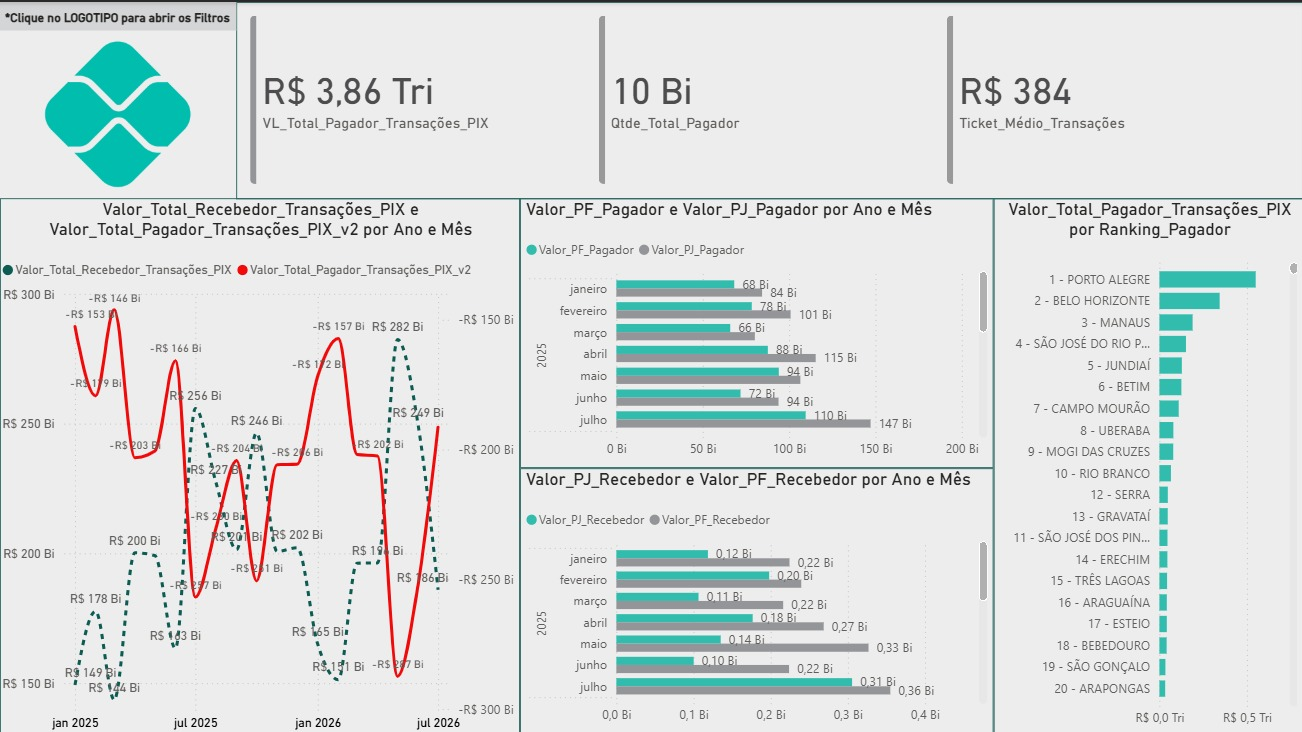

The page's visual inventory and layout, read from the dashboard file:
{"tool":"powerbi","page":{"name":"PIX | Visão_Geral","canvas":[1280,720],"ordinal":1},"visuals":[{"type":"cardVisual","fields":{"Data":["Medidas.Valor_Total_Pagador_Transações_PIX","Medidas.Qtde_Total_Pagador","Medidas.Ticket_Médio_Transações"]},"box":[231.9,0,1047.9,193.9],"z":0},{"type":"lineChart","fields":{"Category":["Calendário.Data.Variation.Hierarquia de datas.Ano","Calendário.Data.Variation.Hierarquia de datas.Mês"],"Y":["Medidas.Valor_Total_Recebedor_Transações_PIX"],"Y2":["Medidas.Valor_Total_Pagador_Transações_PIX_v2"]},"box":[0,192.6,510.4,526.4],"z":1000},{"type":"clusteredBarChart","fields":{"Category":["Dim_Ranking_Transações.Ranking_Pagador"],"Y":["Medidas.Valor_Total_Pagador_Transações_PIX"]},"box":[975.2,193.2,305.1,528.9],"z":2000},{"type":"clusteredBarChart","fields":{"Category":["Calendário.Data.Variation.Hierarquia de datas.Ano","Calendário.Data.Variation.Hierarquia de datas.Mês"],"Y":["Medidas.Valor_PF_Pagador","Medidas.Valor_PJ_Pagador"]},"box":[510.4,192.6,465,265],"z":3000},{"type":"clusteredBarChart","fields":{"Category":["Calendário.Data.Variation.Hierarquia de datas.Ano","Calendário.Data.Variation.Hierarquia de datas.Mês"],"Y":["Medidas.Valor_PJ_Recebedor","Medidas.Valor_PF_Recebedor"]},"box":[510.4,457.7,465,261.4],"z":4000},{"type":"image","box":[0,28.2,231.9,164.4],"z":5000},{"type":"actionButton","box":[0,1.2,231.9,192.6],"z":7000},{"type":"actionButton","box":[1150.9,0,128.8,193.9],"z":8000},{"type":"textbox","box":[0,0,231.9,28.2],"z":9000}]}

Visuals, with their boxes in screenshot pixels (x1, y1, x2, y2), scaled from the page's 1280x720 canvas onto the 1302x732 screenshot:
cardVisual - Medidas.Valor_Total_Pagador_Transações_PIX x Medidas.Qtde_Total_Pagador: bbox=(236, 0, 1301, 197)
lineChart - Calendário.Data.Variation.Hierarquia de datas.Ano x Calendário.Data.Variation.Hierarquia de datas.Mês: bbox=(0, 196, 519, 731)
clusteredBarChart - Dim_Ranking_Transações.Ranking_Pagador x Medidas.Valor_Total_Pagador_Transações_PIX: bbox=(992, 196, 1301, 731)
clusteredBarChart - Calendário.Data.Variation.Hierarquia de datas.Ano x Calendário.Data.Variation.Hierarquia de datas.Mês: bbox=(519, 196, 992, 465)
clusteredBarChart - Calendário.Data.Variation.Hierarquia de datas.Ano x Calendário.Data.Variation.Hierarquia de datas.Mês: bbox=(519, 465, 992, 731)
image: bbox=(0, 29, 236, 196)
actionButton: bbox=(0, 1, 236, 197)
actionButton: bbox=(1171, 0, 1301, 197)
textbox: bbox=(0, 0, 236, 29)
